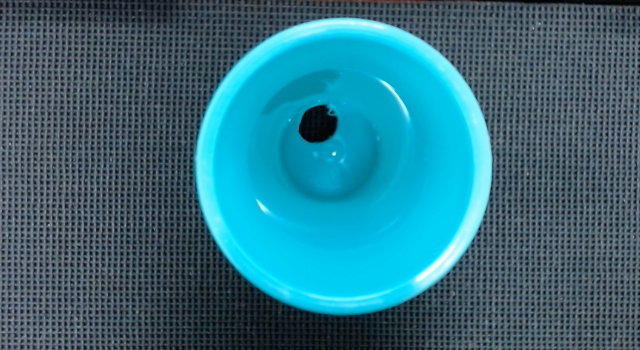hole: (298, 104, 339, 143)
